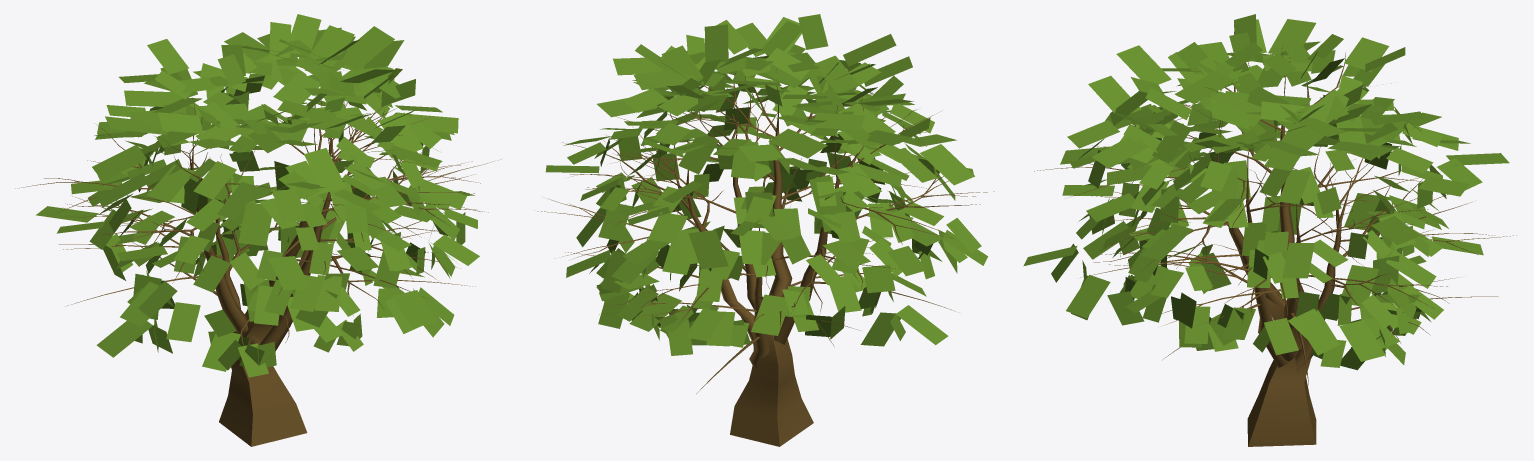
File: ArbolRoble.fbx
3 renders of one model, left to right at view 1: azimuth 30°, elevation 25°; view 2: azimuth 150°, elevation 25°; view 3: azimuth 270°, elevation 25°, orthographic. The views are drawn at different scales.
Visible parts, largest first — view 1: leaves, leaves1, Roble_Low; view 2: leaves, leaves1, Roble_Low; view 3: leaves, leaves1, Roble_Low.
Part boxes in pixels (x1=…): leaves: x1=36, y1=25, x2=477, y2=377; leaves1: x1=97, y1=14, x2=479, y2=371; Roble_Low: x1=15, y1=96, x2=501, y2=446; leaves: x1=545, y1=14, x2=987, y2=346; leaves1: x1=580, y1=20, x2=943, y2=355; Roble_Low: x1=534, y1=68, x2=994, y2=446; leaves: x1=1023, y1=14, x2=1509, y2=370; leaves1: x1=1086, y1=34, x2=1469, y2=352; Roble_Low: x1=1034, y1=32, x2=1516, y2=446.
Size of the model in its own units: 1759 by 1386 by 1671.
